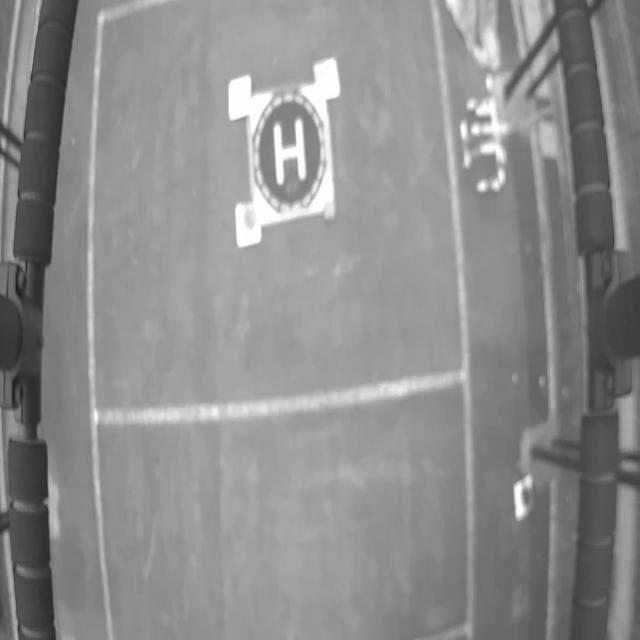Helipad: (273, 117, 307, 188)
